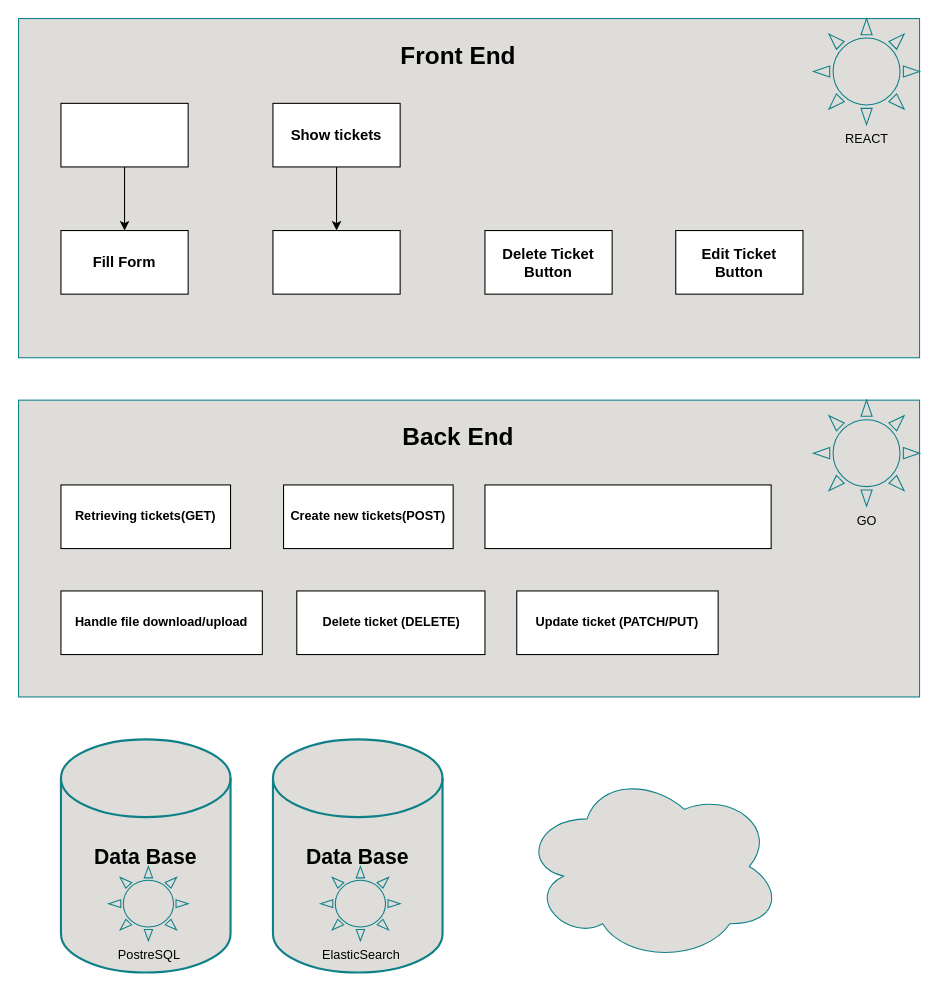
Some shapes in this 938 by 992 pixel diagram are drawn without their labels. The centre of each missing label's shape, as x and y in pixels:
Amazon S3 for multi media: (651,866)
Filter Tickets serach: (336,261)
Filtering Tickets(GET with query parameters): (627,516)
Open new ticket: (124,134)
